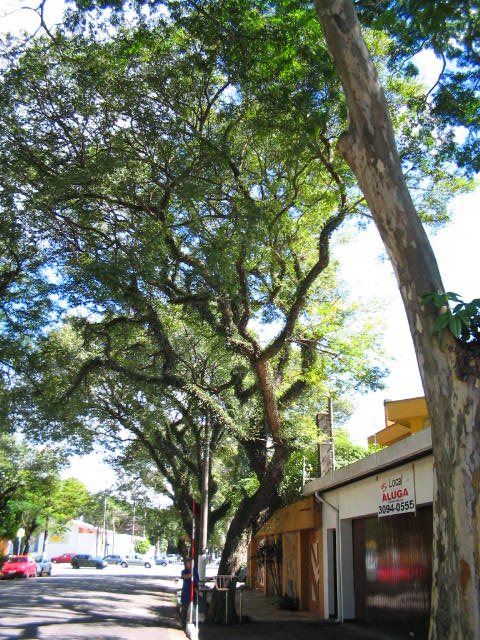stem: (204, 489, 287, 622)
stick: (183, 494, 201, 625)
